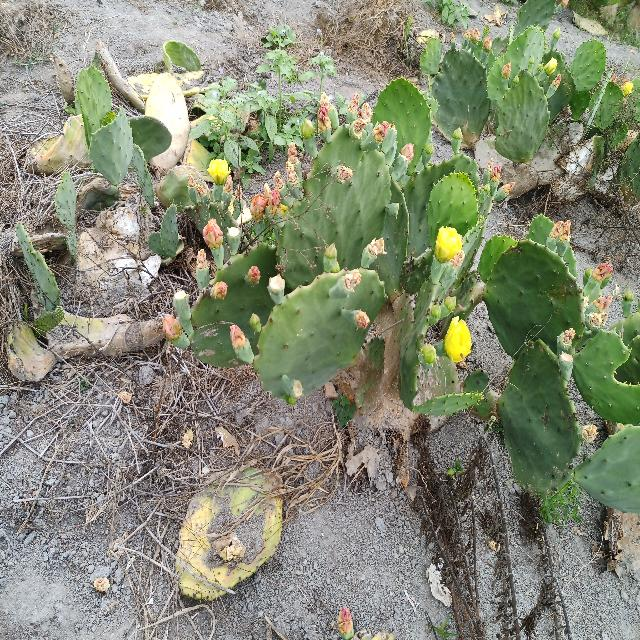adequadas para corte: (2, 279, 385, 516), (464, 90, 640, 339), (370, 279, 460, 451), (576, 278, 640, 403), (329, 267, 388, 382), (453, 335, 574, 386)
inadequadas para corte: (277, 30, 582, 277), (73, 90, 340, 280), (424, 360, 640, 537), (483, 0, 638, 128), (0, 139, 52, 291), (178, 45, 288, 114)
